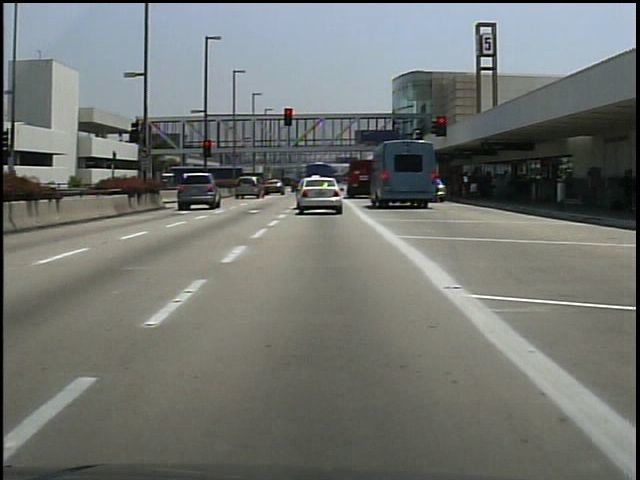person: (618, 167, 637, 221)
